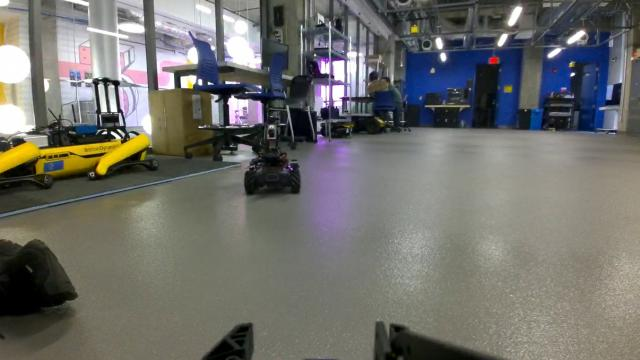robot: (240, 110, 306, 198)
